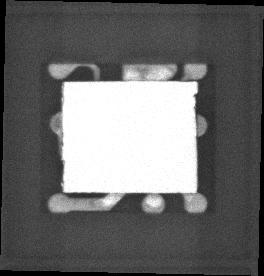DIE_BROKEN: (60, 82, 66, 192), (191, 91, 198, 137)
